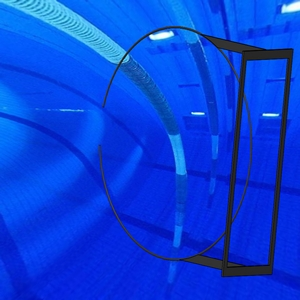circle: (98, 24, 295, 279)
